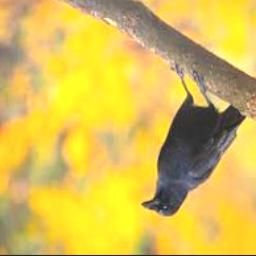Crow: (141, 61, 248, 217)
